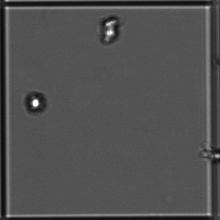Living Cell: (92, 13, 128, 46), (20, 88, 49, 115)
